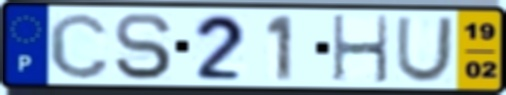1: (263, 13, 296, 83)
2: (190, 10, 252, 85)
C: (47, 10, 112, 81)
H: (330, 13, 392, 85)
S: (112, 10, 175, 82)
U: (393, 15, 457, 85)
